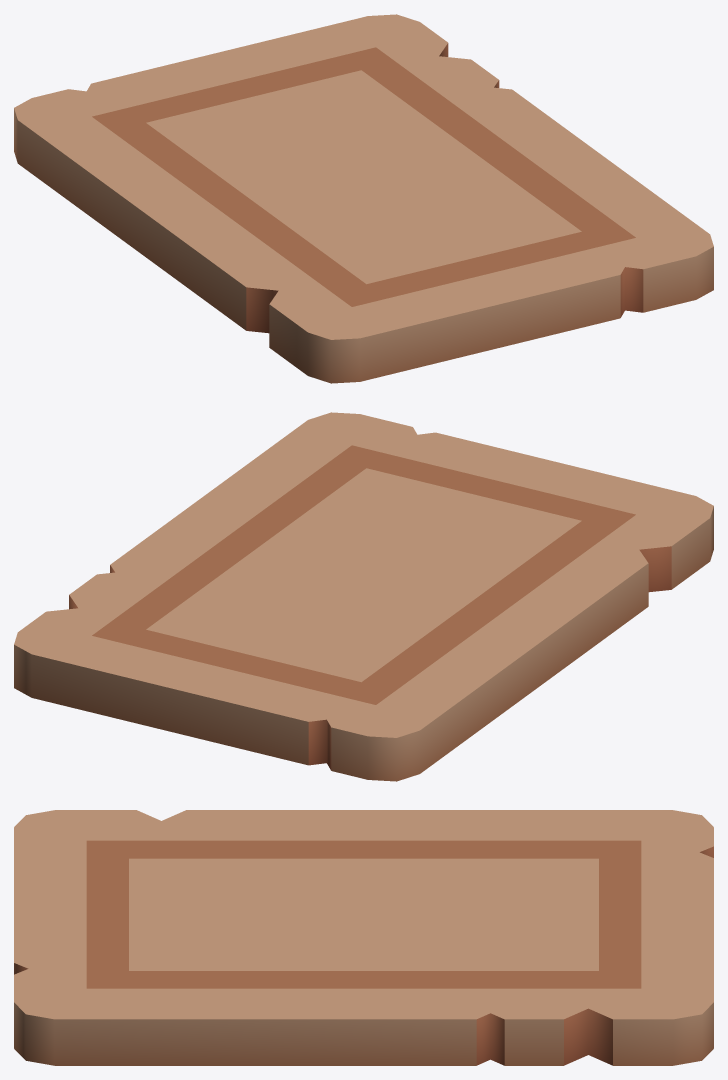
File: cutting-board.glb
3 renders of one model, top to bottom at view 1: azimuth 30°, elevation 25°; view 2: azimuth 150°, elevation 25°; view 3: azimuth 270°, elevation 25°, orthographic. The views are drawn at different scales.
Visible parts, largest first — view 1: cutting-board; view 2: cutting-board; view 3: cutting-board.
Part boxes in pixels (left/top/right/bottom): cutting-board: left=14, top=14, right=713, bottom=383; cutting-board: left=14, top=412, right=713, bottom=781; cutting-board: left=14, top=810, right=713, bottom=1065.
Bounding box in the file's own units: 0.58 × 0.06 × 0.82.
